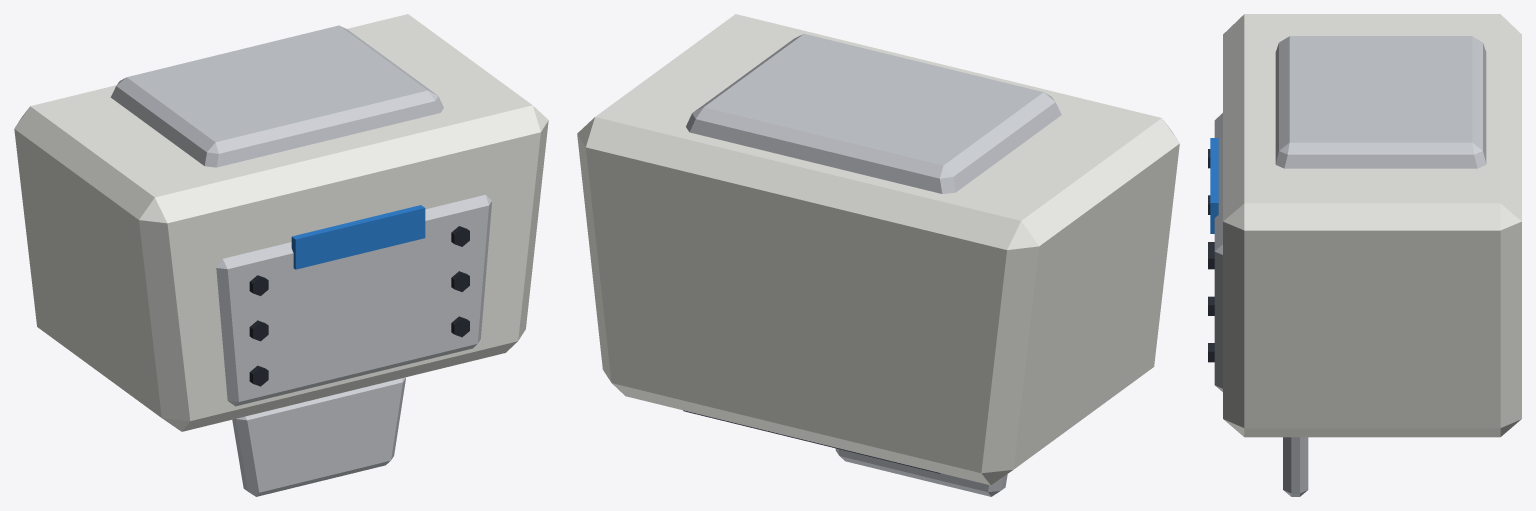
Rendered from torso_heavy.glb.
3 views of the same model, side by side, from view 1: azimuth 30°, elevation 25°; view 2: azimuth 150°, elevation 25°; view 3: azimuth 270°, elevation 25° (orthographic). The views are drawn at different scales.
Parts seen in each view (by area): view 1: torso_heavy; view 2: torso_heavy; view 3: torso_heavy.
Part boxes in pixels (x1,y1,x2,y2): torso_heavy: [14, 14, 548, 496]; torso_heavy: [577, 14, 1179, 496]; torso_heavy: [1208, 14, 1521, 496].
Bounding box in the file's own units: 1.14 × 0.97 × 0.735.
